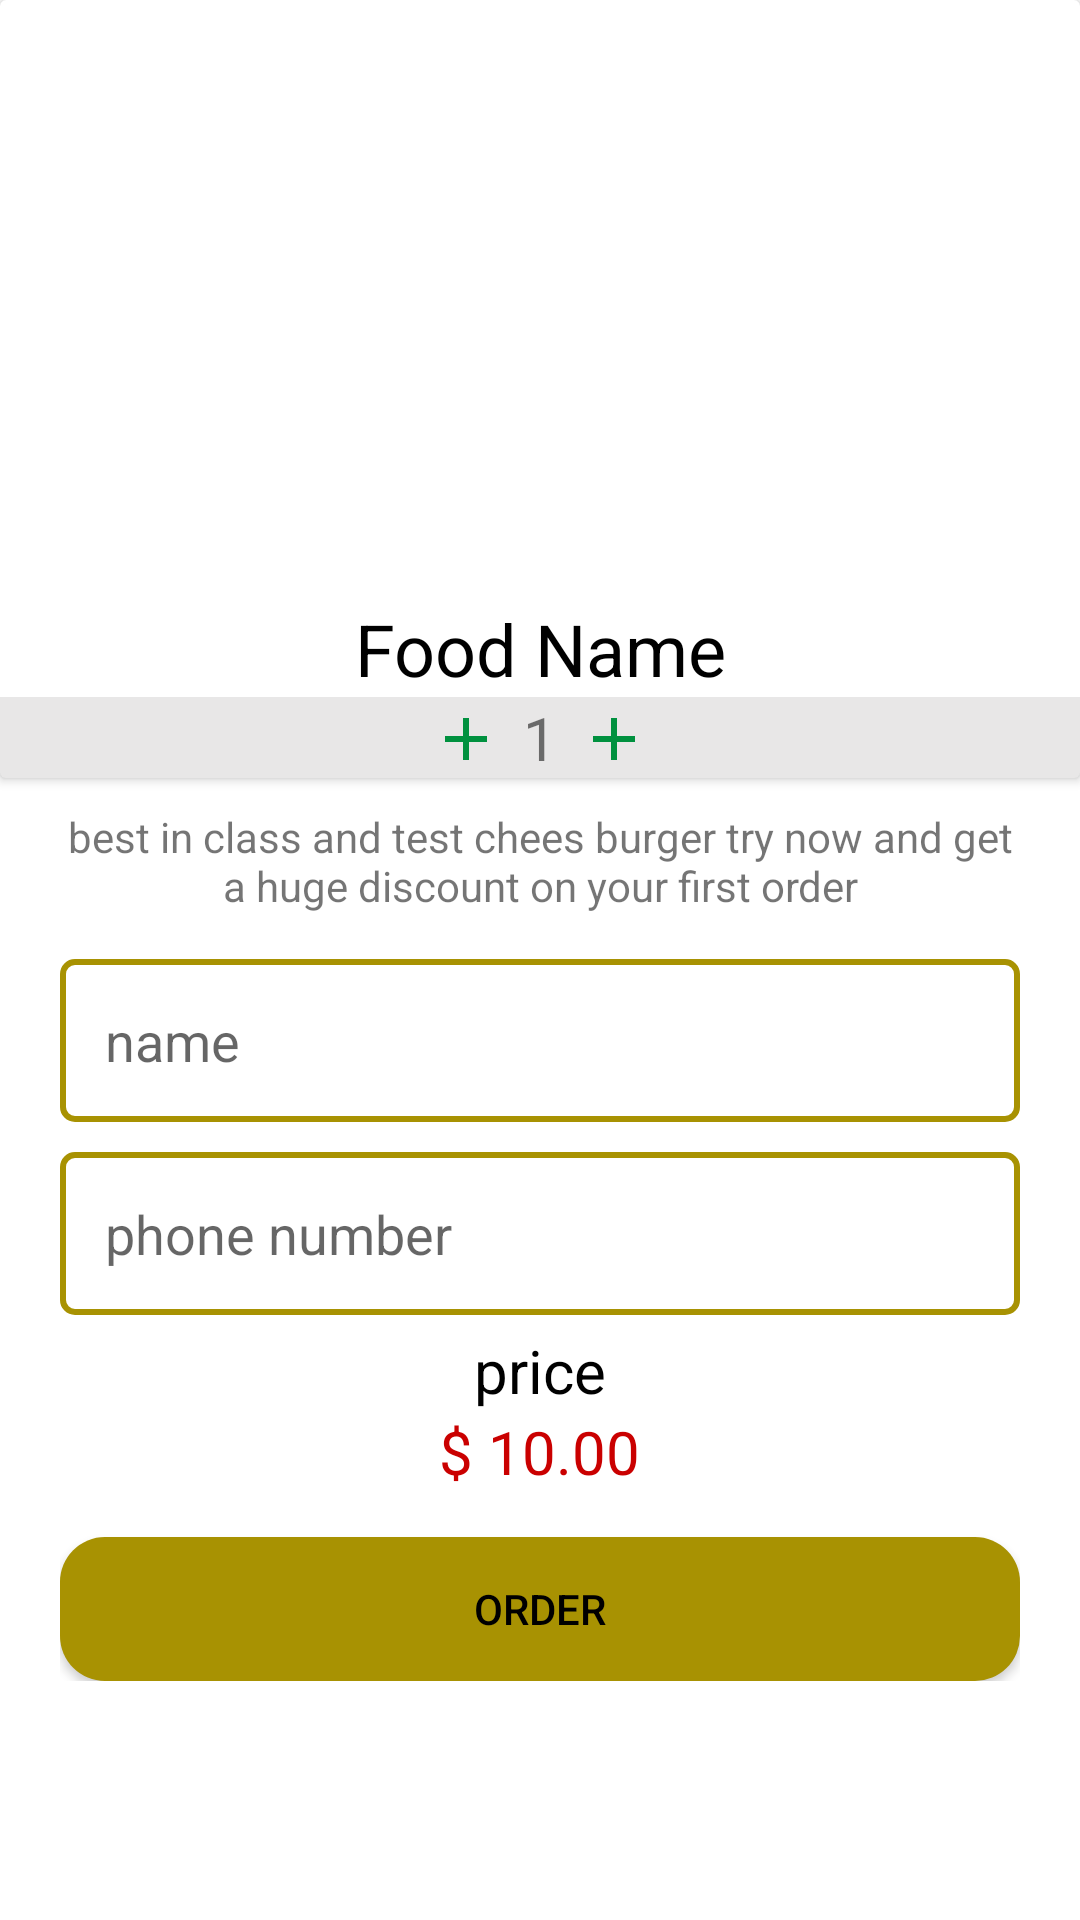

Named icons in this screenshot (1080 × 1920) and their centers, [x,y]:
add: [466,739], [614,739]
